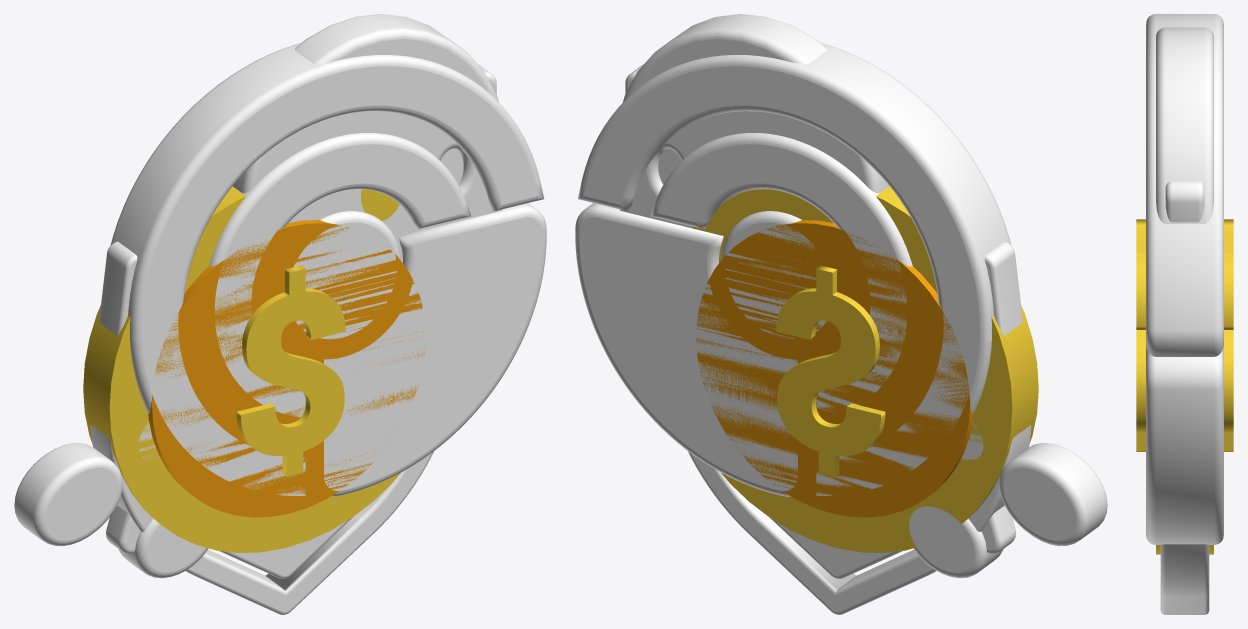
The model's file is 3D icons hide and seek.fbx.
3 renders of one model, left to right at view 1: azimuth 30°, elevation 25°; view 2: azimuth 150°, elevation 25°; view 3: azimuth 270°, elevation 25°, orthographic. The views are drawn at different scales.
Parts seen in each view (by area): view 1: Curve, Curve.001, Curve.003, Curve.002, Curve.004; view 2: Curve, Curve.001, Curve.003, Curve.002, Curve.004; view 3: Curve, Curve.003, Curve.001, Curve.002, Curve.004.
Part boxes in pixels (x1=…): Curve: x1=110, y1=43, x2=546, y2=496; Curve.001: x1=83, y1=186, x2=425, y2=552; Curve.003: x1=14, y1=14, x2=502, y2=578; Curve.002: x1=90, y1=241, x2=433, y2=614; Curve.004: x1=106, y1=64, x2=496, y2=553; Curve: x1=575, y1=43, x2=1011, y2=496; Curve.001: x1=692, y1=186, x2=1038, y2=552; Curve.003: x1=619, y1=14, x2=1107, y2=578; Curve.002: x1=688, y1=241, x2=1031, y2=614; Curve.004: x1=625, y1=64, x2=1015, y2=553; Curve: x1=1146, y1=14, x2=1223, y2=544; Curve.003: x1=1156, y1=27, x2=1213, y2=223; Curve.001: x1=1136, y1=219, x2=1233, y2=554; Curve.002: x1=1160, y1=544, x2=1209, y2=614; Curve.004: x1=1165, y1=181, x2=1204, y2=222.
Bounding box in the file's own units: 200 × 211 × 30.
